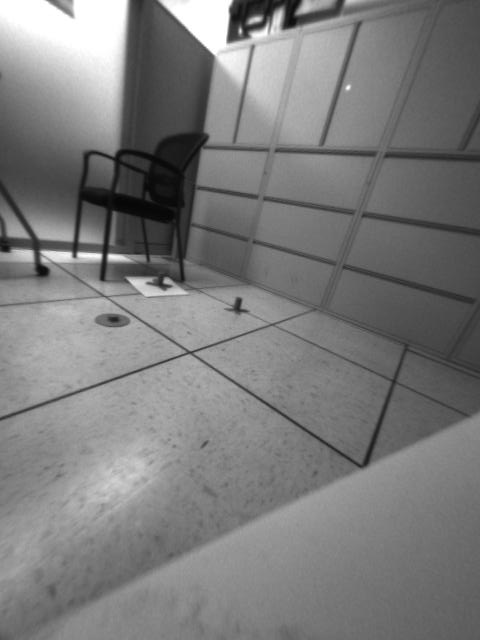X: (145, 270, 173, 291), (222, 295, 249, 316)
